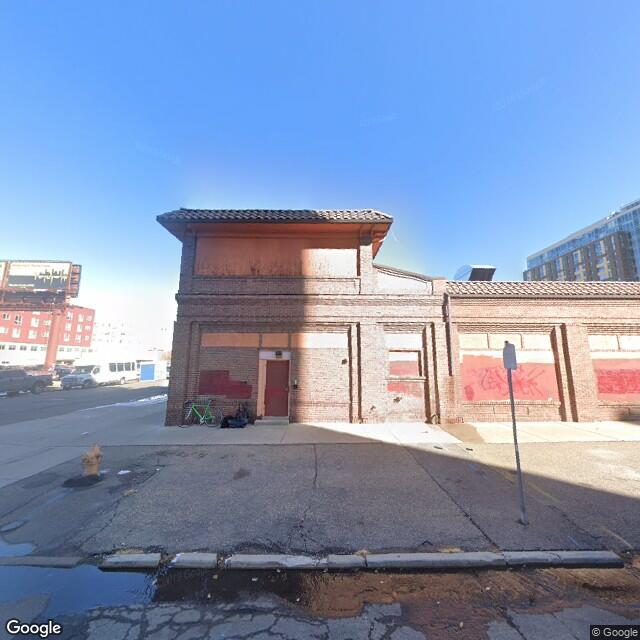fh: (77, 443, 109, 482)
